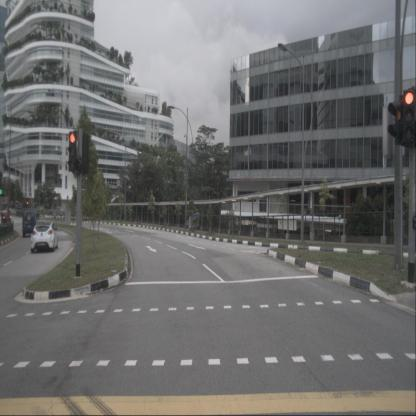vehicle-bicycle: (194, 222, 198, 230)
vehicle-car: (30, 220, 58, 253), (22, 210, 37, 238), (1, 210, 12, 227)
